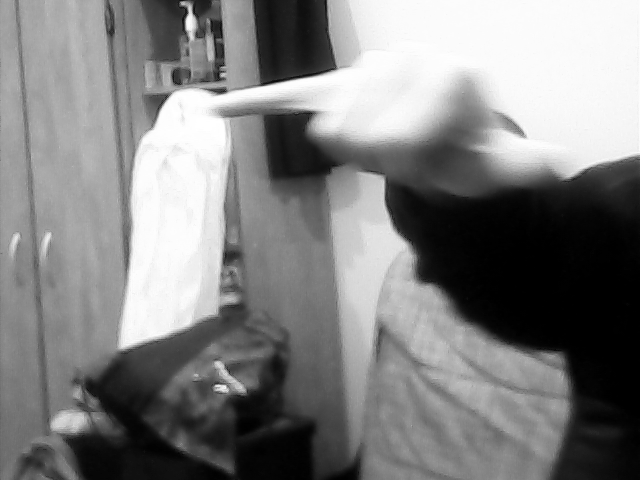aloha: (199, 42, 574, 195)
